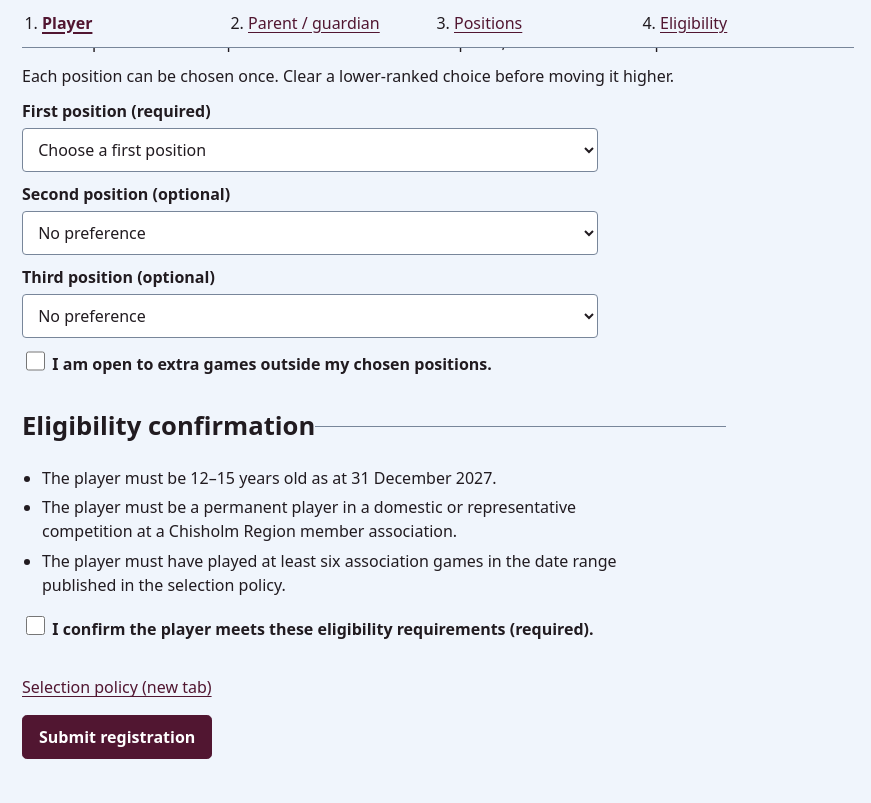
Test case: RegisterPage › reports all missing public registration fields before requesting registration
(page scrolled)
Click the button "Submit registration": click(117, 737) [22,715,212,759]
(page scrolled)
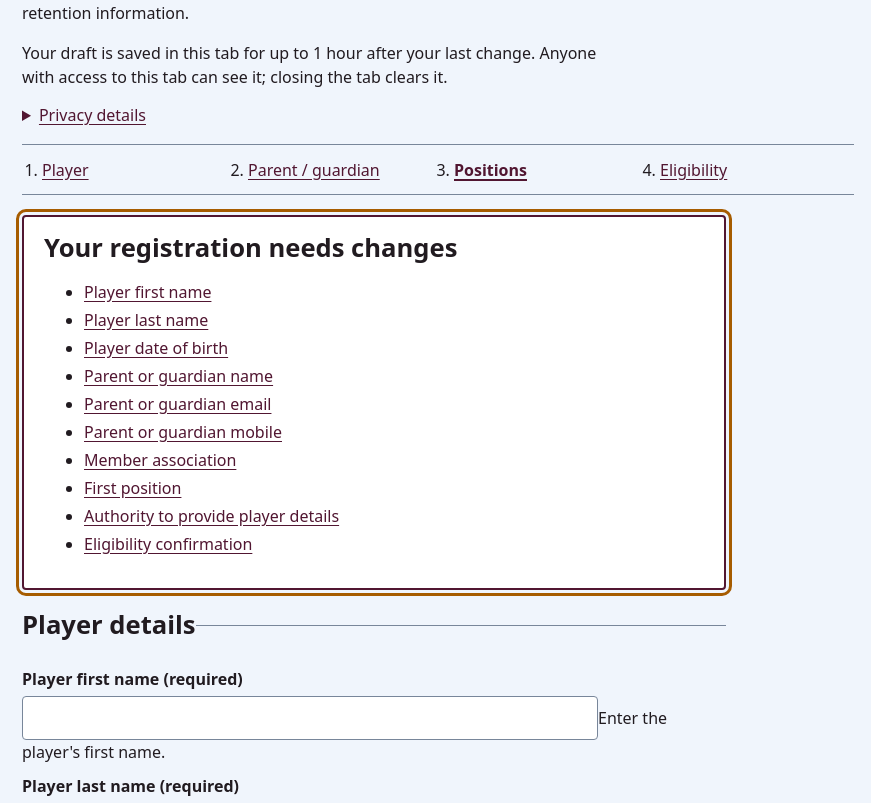
Expected: the link "Player first name" is shown, [84,281,211,303]
Expected: the link "Player last name" is shown, [84,309,208,331]
Expected: the link "Player date of birth" is shown, [84,337,228,359]
